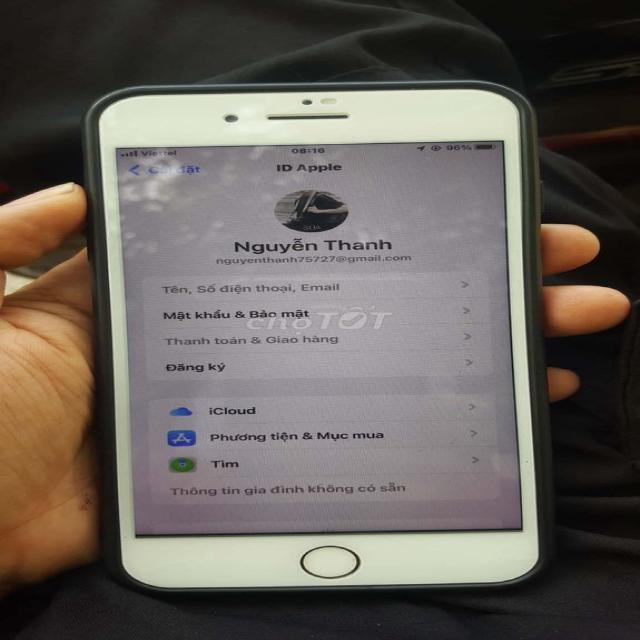gen_7_8: (58, 78, 572, 600)
